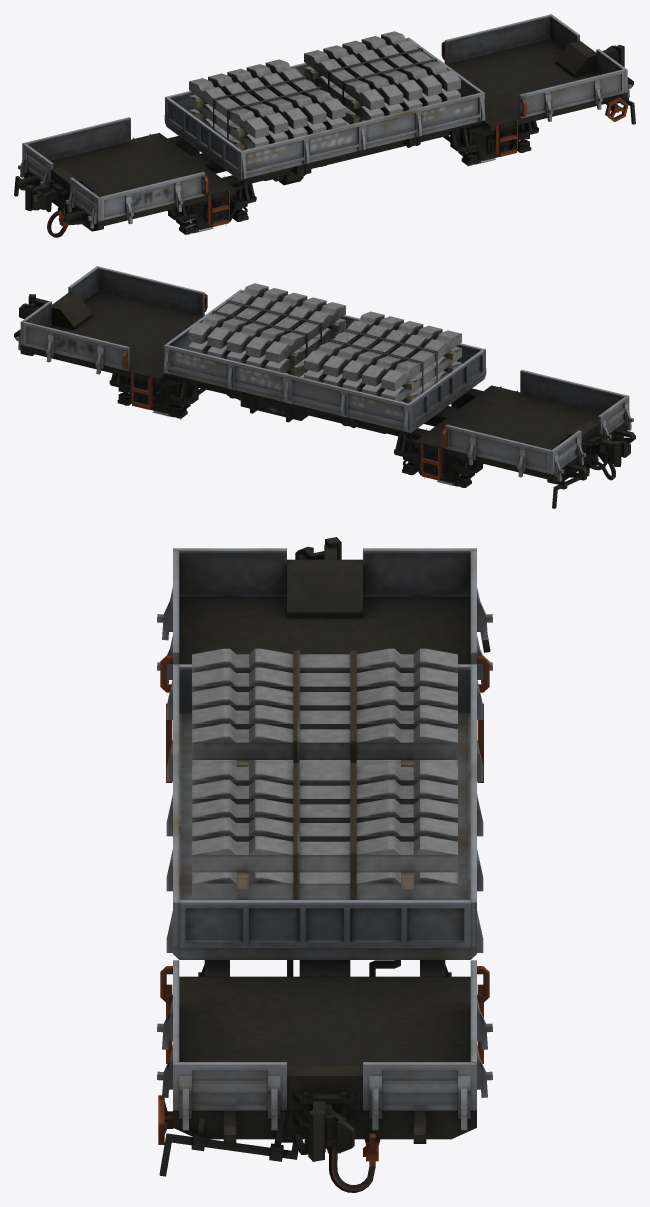
Rendered from mvp_ir_up4.obj.
3 views of the same model, one above another, from view 1: azimuth 30°, elevation 25°; view 2: azimuth 150°, elevation 25°; view 3: azimuth 270°, elevation 25° (orthographic). The views are drawn at different scales.
Visible parts, largest first — view 1: FRAME_up4, WIDGET_1_CG_Bort_LABEL_^, CARGO_FILL_40, CARGO_FILL_100, CARGO_FILL_20, CARGO_FILL_80, WIDGET_2_CG_Bort_LABEL_^; view 2: FRAME_up4, CARGO_FILL_40, CARGO_FILL_100, WIDGET_2_CG_Bort_LABEL_^, WIDGET_1_CG_Bort_LABEL_^, CARGO_FILL_20, CARGO_FILL_80; view 3: FRAME_up4, CARGO_FILL_100, CARGO_FILL_40, WIDGET_1_CG_Bort_LABEL_^, CARGO_FILL_80, WIDGET_2_CG_Bort_LABEL_^, CARGO_FILL_20.
Part boxes in pixels (<box>): FRAME_up4: <box>14,14,635,237</box>; WIDGET_1_CG_Bort_LABEL_^: <box>165,38,485,179</box>; CARGO_FILL_40: <box>189,59,345,140</box>; CARGO_FILL_100: <box>304,31,460,119</box>; CARGO_FILL_20: <box>189,94,345,150</box>; CARGO_FILL_80: <box>304,66,460,123</box>; WIDGET_2_CG_Bort_LABEL_^: <box>164,37,409,120</box>; FRAME_up4: <box>14,266,635,508</box>; CARGO_FILL_40: <box>304,311,461,393</box>; CARGO_FILL_100: <box>188,283,345,372</box>; WIDGET_2_CG_Bort_LABEL_^: <box>163,344,410,431</box>; WIDGET_1_CG_Bort_LABEL_^: <box>166,289,486,432</box>; CARGO_FILL_20: <box>304,347,461,403</box>; CARGO_FILL_80: <box>188,318,345,375</box>; FRAME_up4: <box>157,537,492,1192</box>; CARGO_FILL_100: <box>192,761,457,899</box>; CARGO_FILL_40: <box>192,648,457,766</box>; WIDGET_1_CG_Bort_LABEL_^: <box>166,664,476,959</box>; CARGO_FILL_80: <box>192,872,457,899</box>; WIDGET_2_CG_Bort_LABEL_^: <box>470,664,483,952</box>; CARGO_FILL_20: <box>192,760,457,766</box>.
Bounding box in the file's own units: 13.56 × 2.29 × 3.32.
